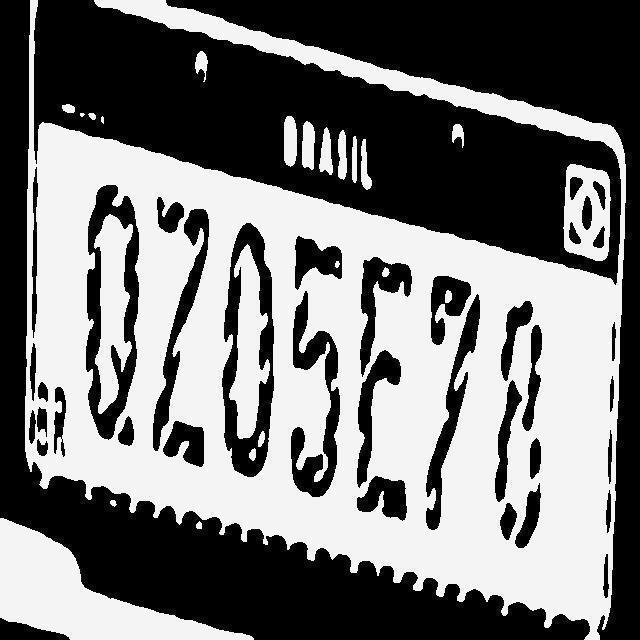0: (222, 215, 274, 484)
5: (283, 225, 342, 506)
7: (424, 272, 486, 536)
8: (492, 288, 549, 553)
e: (350, 250, 417, 528)
q: (77, 178, 141, 454)
z: (148, 188, 209, 477)
